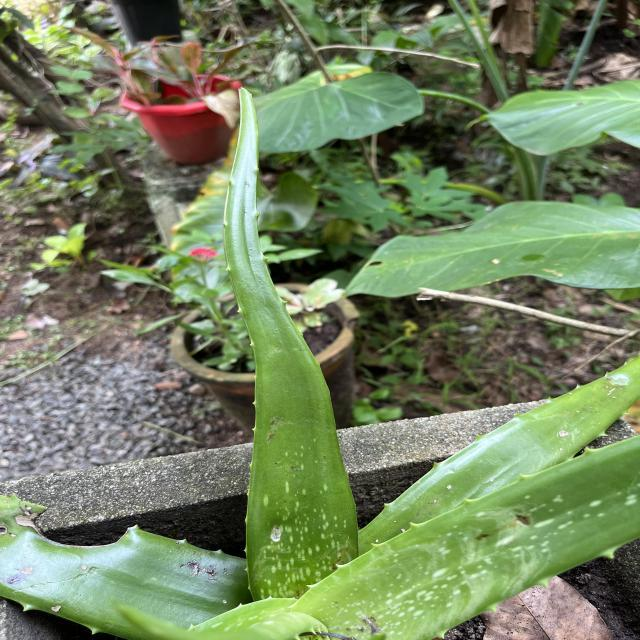Aloe vera: (220, 82, 368, 606)
